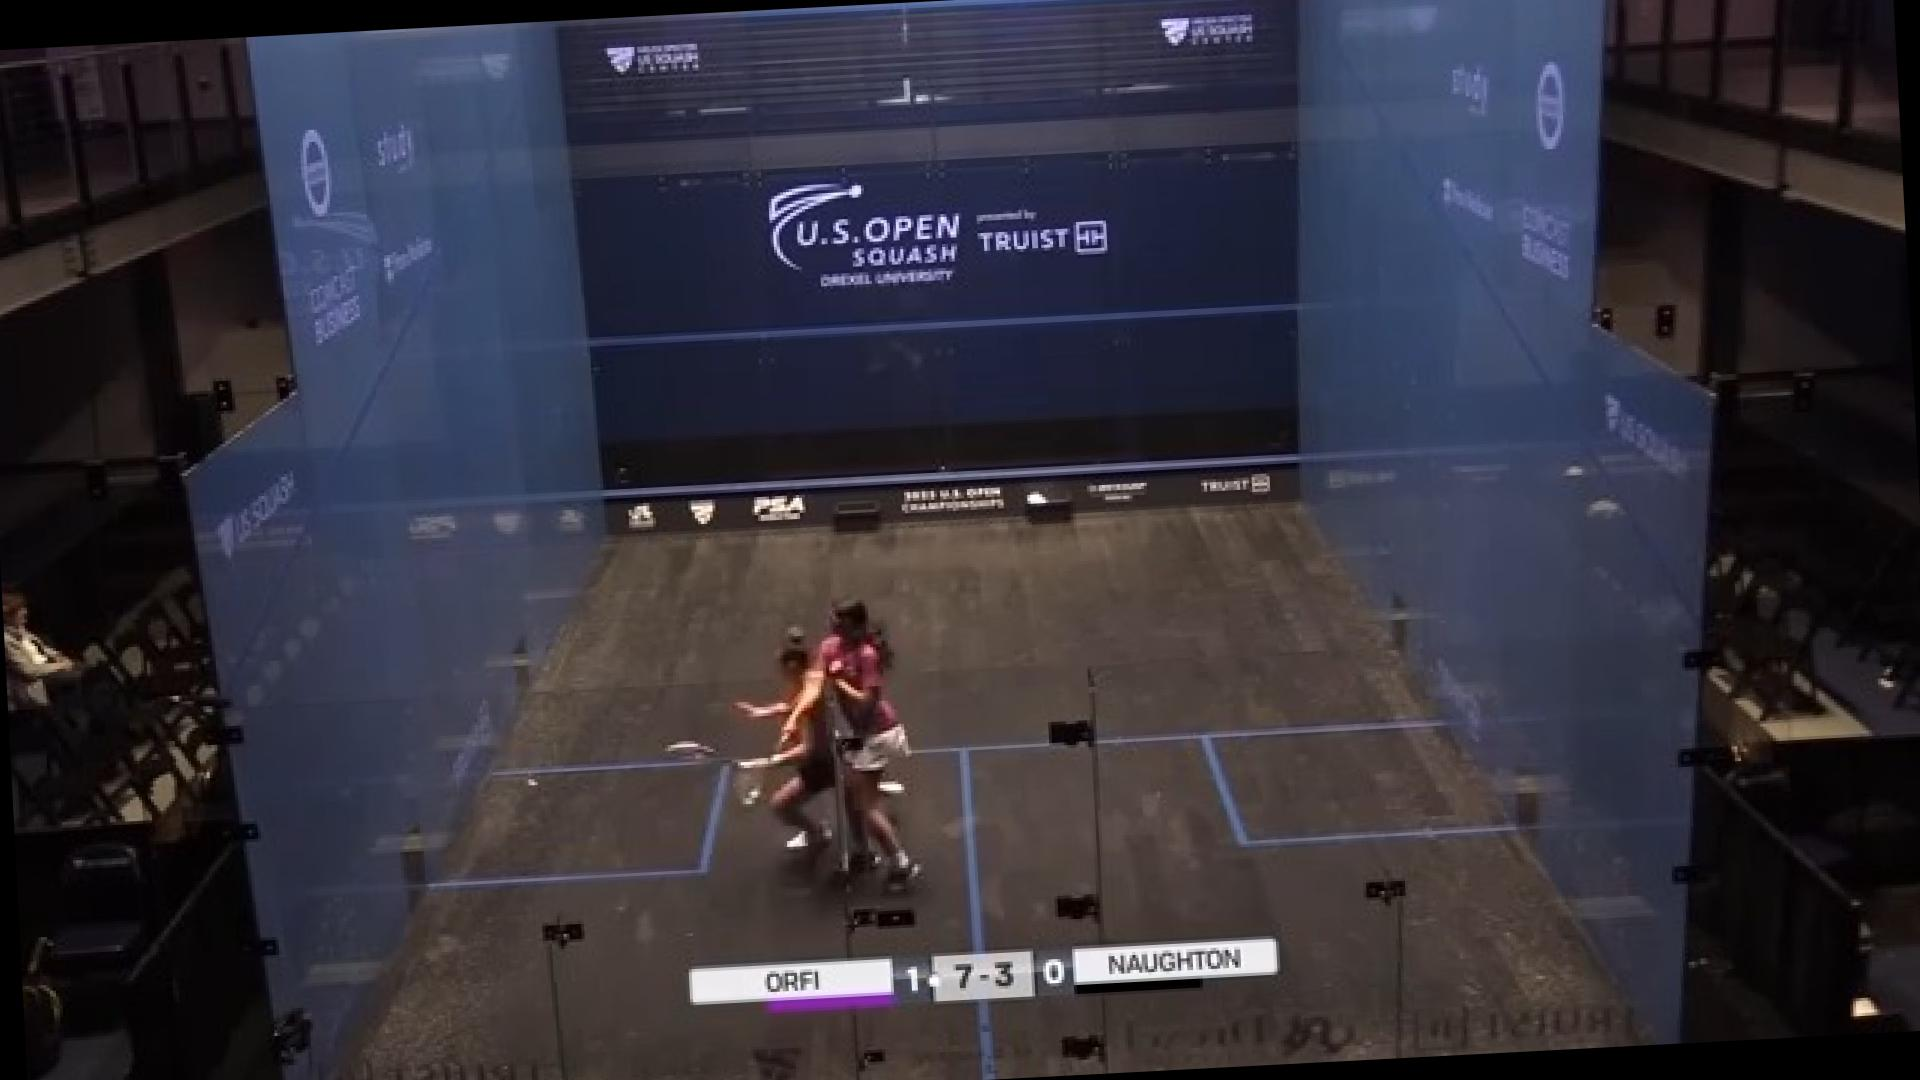Squash-Ball: (518, 767, 545, 798)
